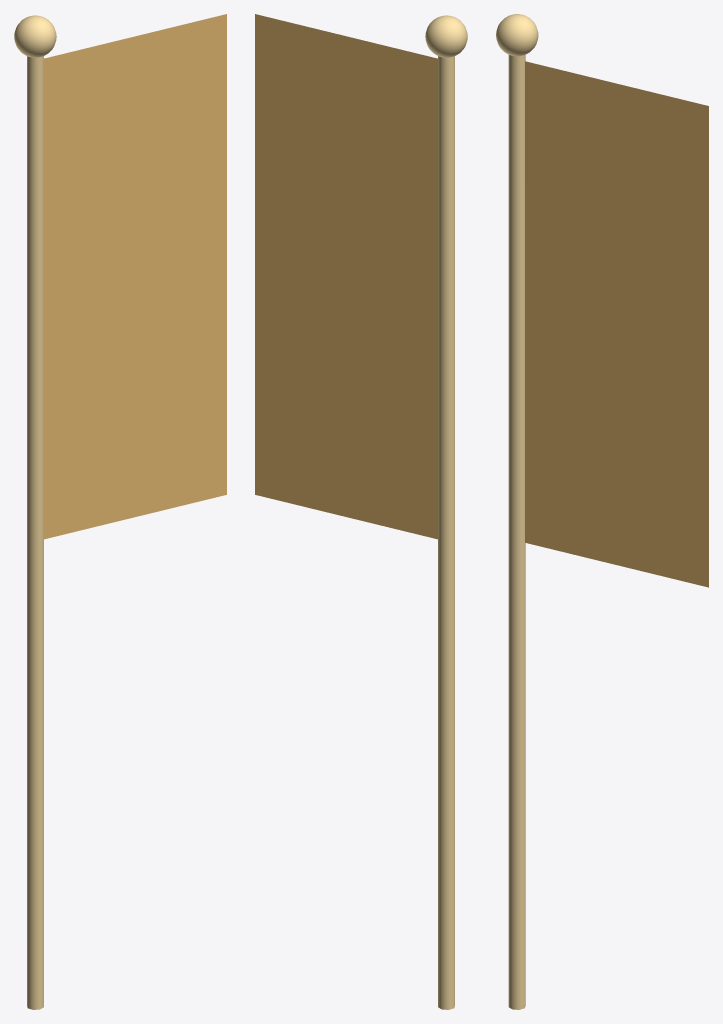
The model's file is banner.glb.
3 views of the same model, side by side, from view 1: azimuth 30°, elevation 25°; view 2: azimuth 150°, elevation 25°; view 3: azimuth 330°, elevation 25° (orthographic).
Visible parts, largest first — view 1: cloth, pole; view 2: cloth, pole; view 3: cloth, pole.
Boxes of the visible parts, left/top/right/bottom form: cloth: left=44, top=14, right=226, bottom=539; pole: left=14, top=15, right=56, bottom=1009; cloth: left=255, top=14, right=437, bottom=539; pole: left=425, top=15, right=467, bottom=1009; cloth: left=525, top=61, right=708, bottom=587; pole: left=496, top=14, right=538, bottom=1009.
Bounding box in the file's own units: 1.37 × 6.17 × 0.24.
